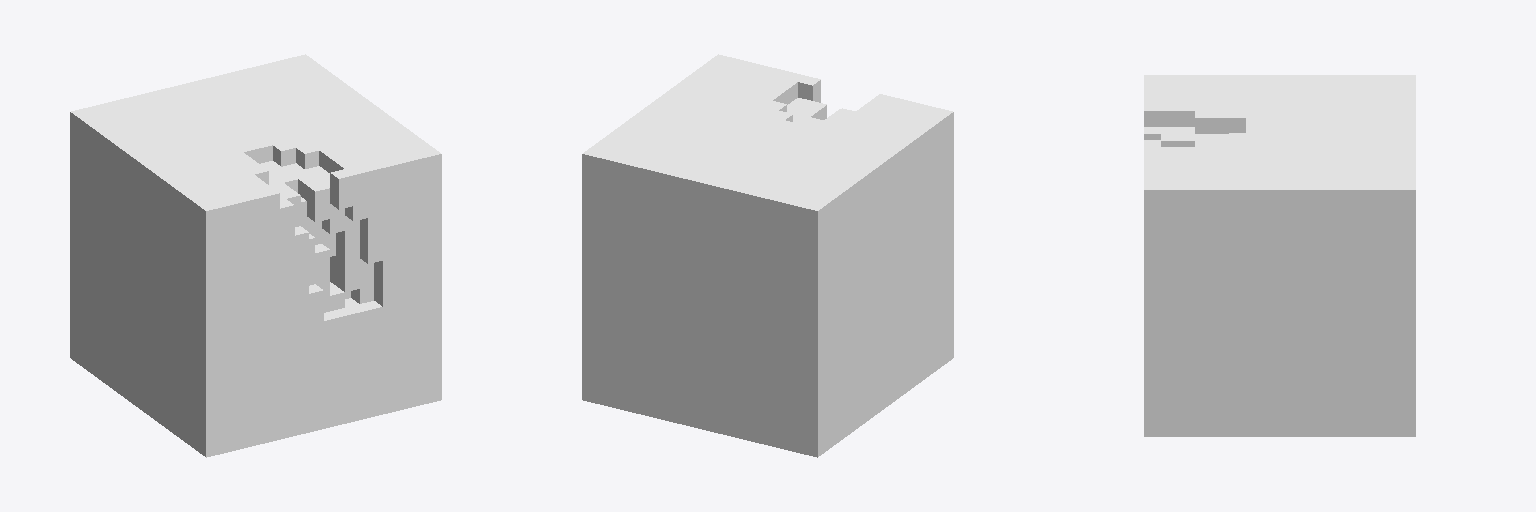
File: bloco-fogo.obj
3 renders of one model, left to right at view 1: azimuth 30°, elevation 25°; view 2: azimuth 150°, elevation 25°; view 3: azimuth 270°, elevation 25°, orthographic.
Parts seen in each view (by area): view 1: object 1; view 2: object 1; view 3: object 1.
Boxes of the visible parts, <box> form: object 1: <box>70,54,441,457</box>; object 1: <box>582,54,953,457</box>; object 1: <box>1144,75,1415,436</box>.
Size of the model in its own units: 1.6 by 1.6 by 1.6.